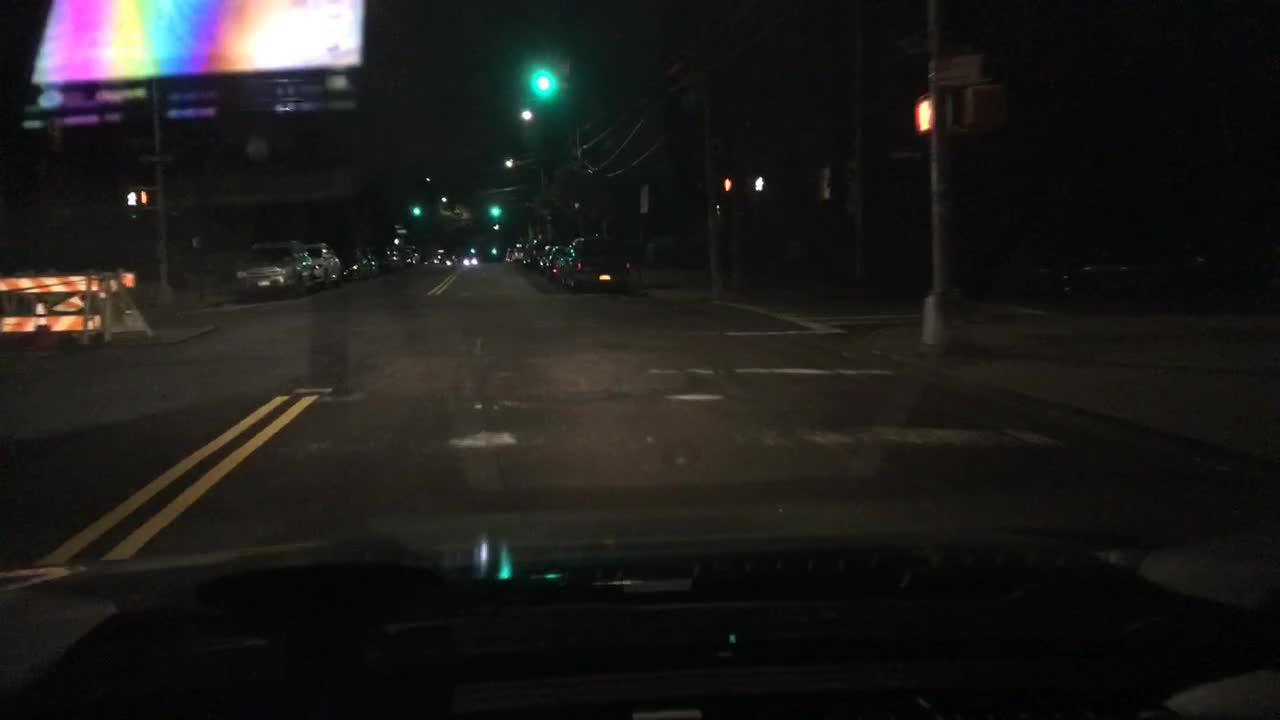car: (1036, 234, 1242, 310), (557, 234, 640, 293), (228, 240, 313, 297), (298, 241, 342, 284), (335, 244, 368, 279), (362, 241, 386, 275), (545, 245, 571, 276), (381, 244, 407, 267), (533, 244, 553, 268), (403, 246, 426, 265), (521, 244, 539, 266), (509, 243, 527, 262), (439, 252, 455, 266), (424, 253, 444, 264), (462, 254, 478, 266), (506, 245, 515, 261)
traffic light: (959, 86, 1000, 129), (936, 55, 987, 85), (913, 96, 933, 131), (550, 55, 567, 93), (535, 57, 550, 93), (721, 173, 740, 190), (749, 171, 765, 190), (124, 189, 137, 208), (138, 189, 148, 209), (492, 202, 499, 216), (413, 202, 420, 214), (492, 248, 496, 255), (470, 244, 473, 253)
traffic sign: (130, 154, 174, 165)
